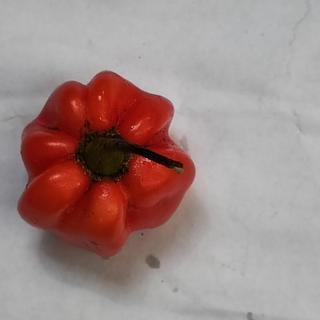Grade-B: (14, 64, 195, 258)
